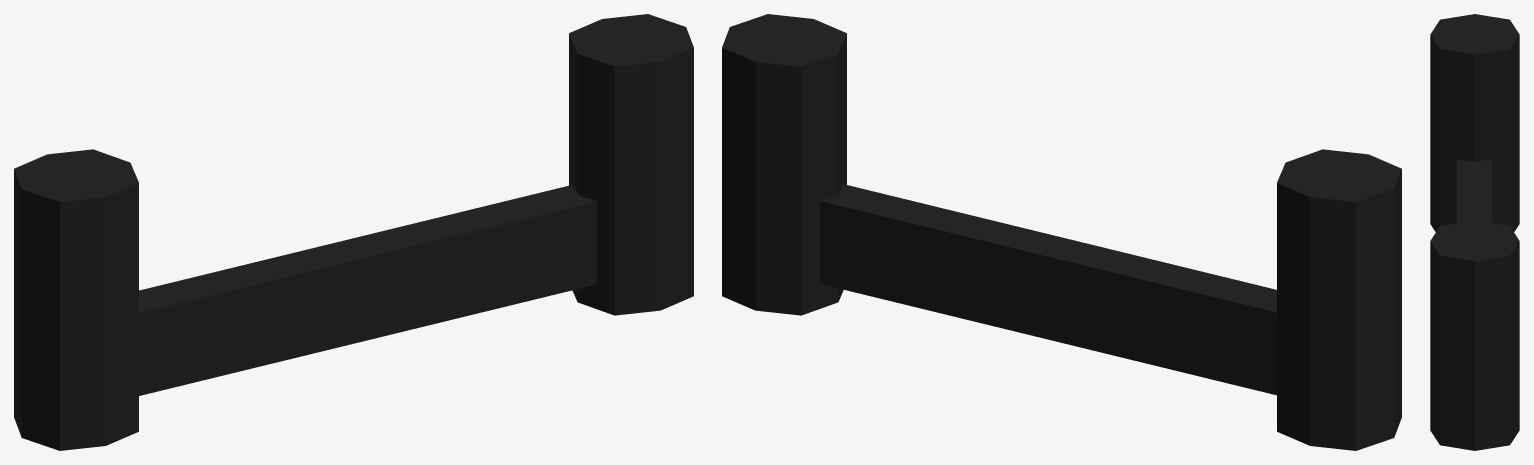
Rendered from LadderTopD.fbx.
The picture shows the model from 3 angles, left to right: view 1: azimuth 30°, elevation 25°; view 2: azimuth 150°, elevation 25°; view 3: azimuth 270°, elevation 25°; orthographic projection. The views are drawn at different scales.
Visible parts, largest first — view 1: LadderTopD; view 2: LadderTopD; view 3: LadderTopD.
Boxes of the visible parts, x1,y1,x2,y2 form: LadderTopD: (14,14,693,450); LadderTopD: (722,14,1401,450); LadderTopD: (1430,14,1519,450).
Size of the model in its own units: 168 by 60 by 25.57.
